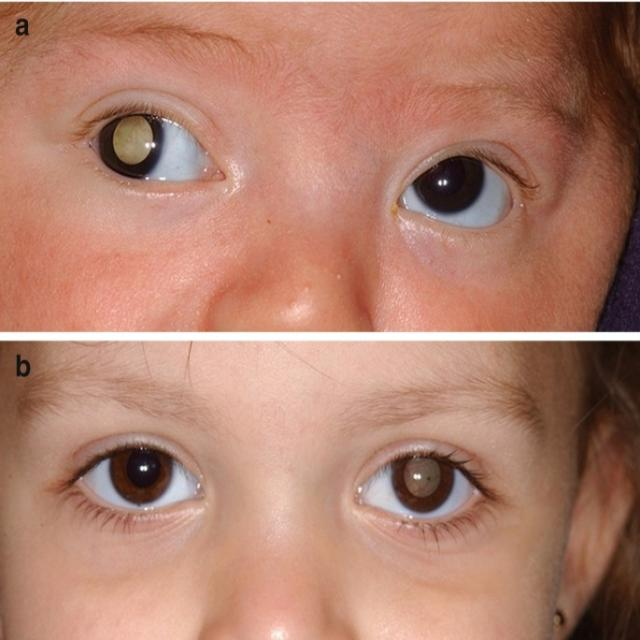reflexo-alterado: (375, 439, 493, 532), (82, 106, 196, 193)
reflexo-normal: (403, 157, 486, 235), (99, 438, 184, 508)
